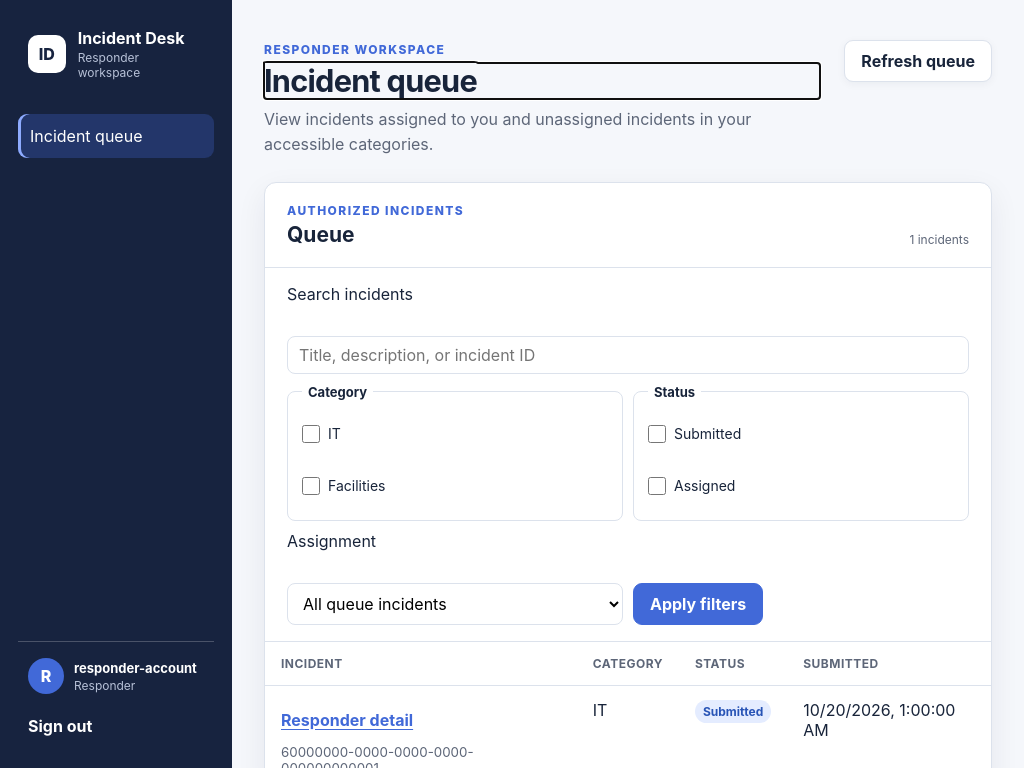
Test: Responder incident queue › discards pending AI advice after detail access is denied on refresh
Click the button with aria-label "View details for Responder detail": (347,720) [281,700,413,740]
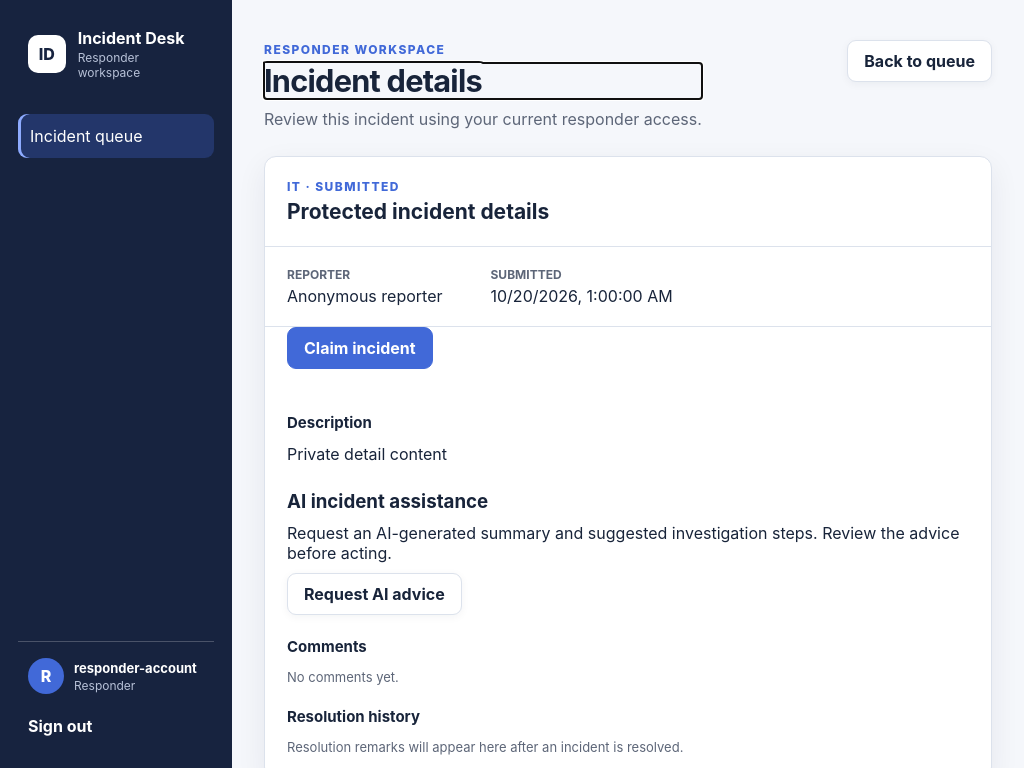
Click the button "Request AI advice": (374,594) [287,573,462,615]
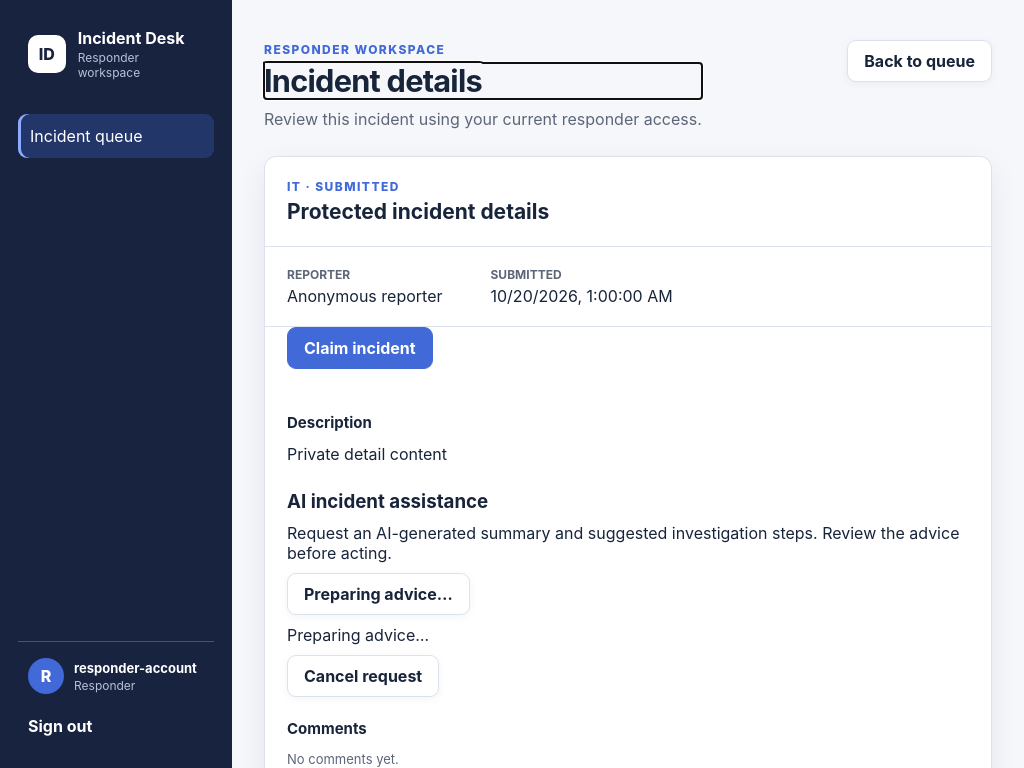
Click the button "Claim incident": (360,348) [287,327,433,369]
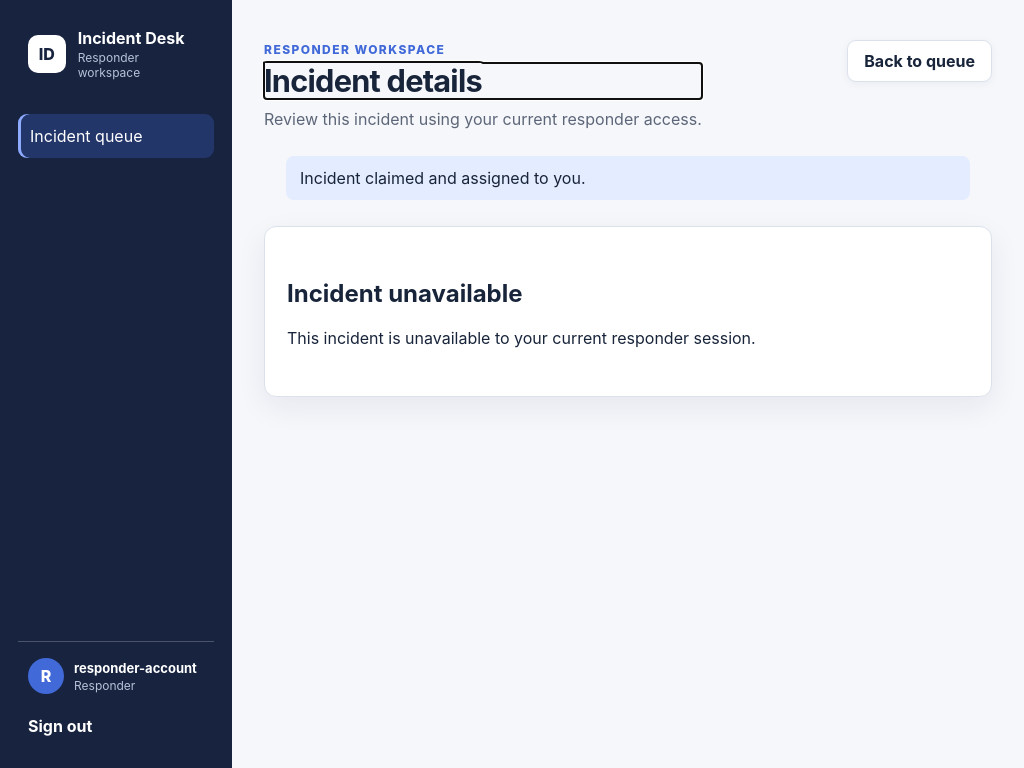
Expected: the heading "Incident unavailable" is shown, [287,279,522,308]
